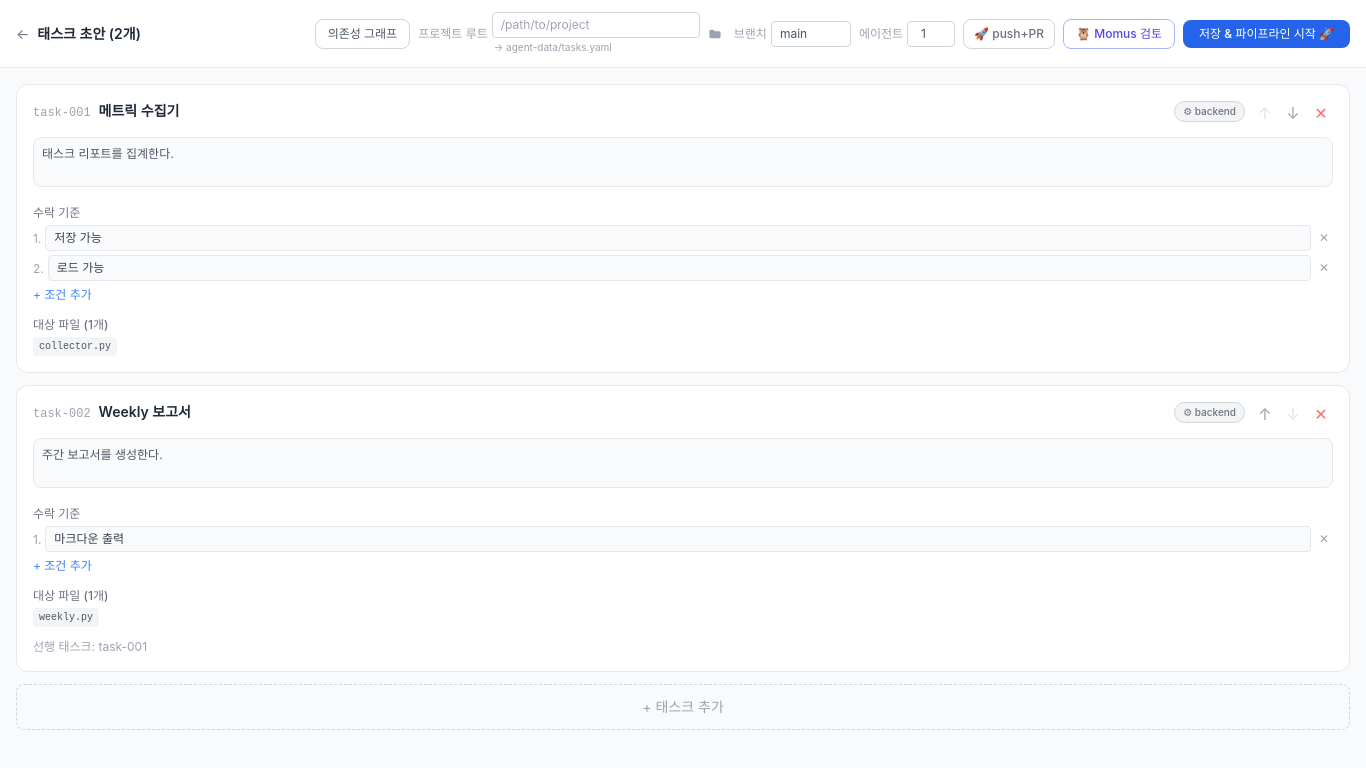
Test: TaskDraftPanel › 검토 안 한 상태에서 실행 버튼 클릭 시 confirm 모달이 표시되어야 한다
Click the button "저장 & 파이프라인 시작 🚀". click: (1266, 34)
box: [1183, 20, 1350, 48]
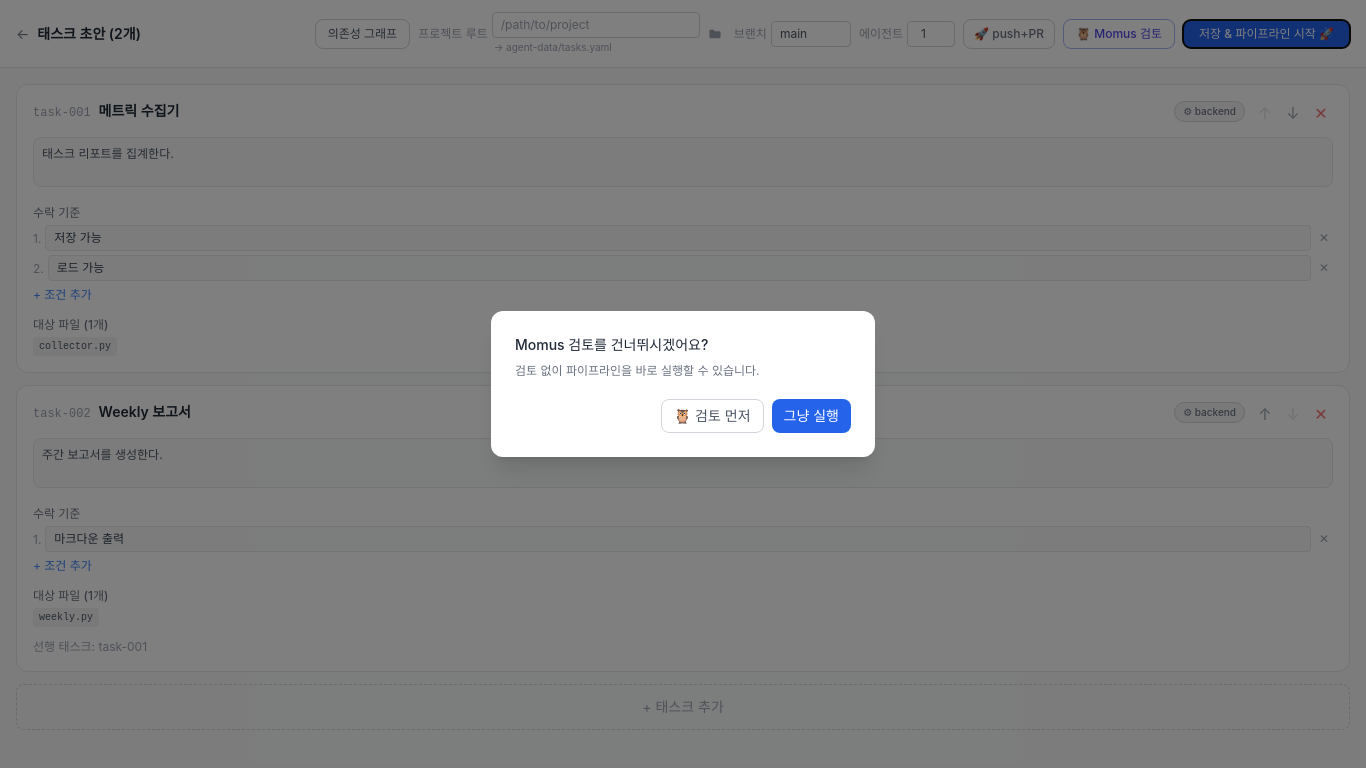
Result: the text "Momus 검토를 건너뛰시겠어요?" is shown at [515, 336, 708, 353]
